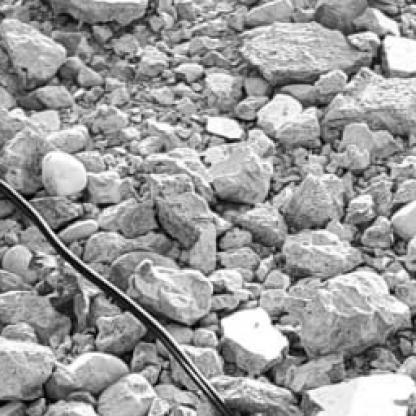cementitious_debris: (3, 3, 414, 412)
